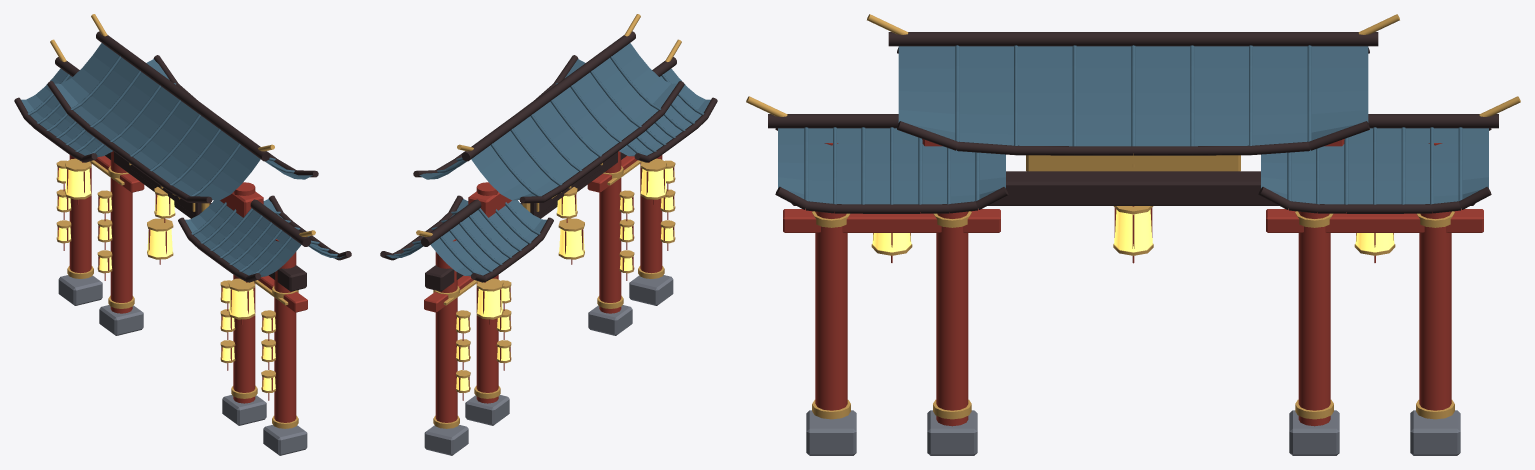
The model's file is model-paifang.glb.
The picture shows the model from 3 angles, left to right: view 1: azimuth 30°, elevation 25°; view 2: azimuth 150°, elevation 25°; view 3: azimuth 270°, elevation 25°; orthographic projection. The views are drawn at different scales.
Visible parts, largest first — view 1: model-paifang; view 2: model-paifang; view 3: model-paifang.
Part boxes in pixels (x1,y1,x2,y2): model-paifang: (14,14,351,455); model-paifang: (380,14,717,455); model-paifang: (746,14,1520,455).
Bounding box in the file's own units: 2.85 × 7.11 × 11.55.
